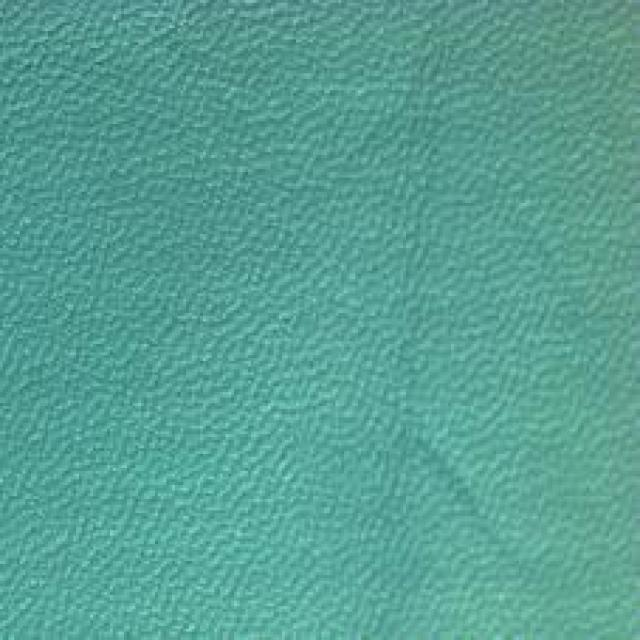Growth Marks: (340, 413, 530, 549), (130, 17, 320, 150)
